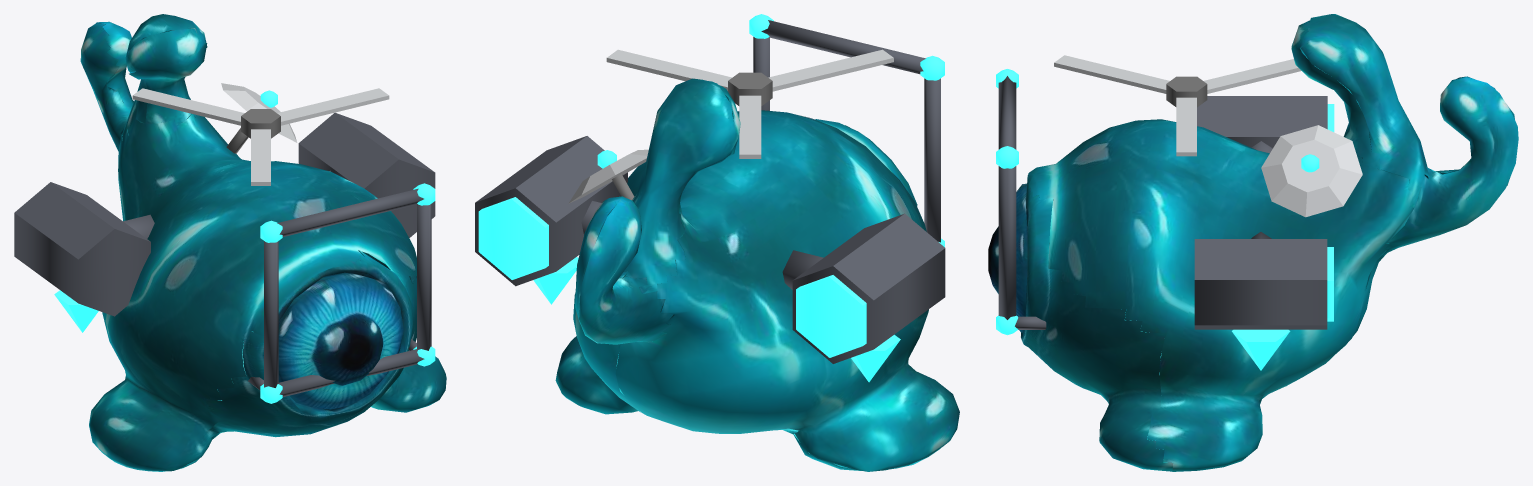
Rendered from Monster_VEX_Skyrig.glb.
The picture shows the model from 3 angles, left to right: view 1: azimuth 30°, elevation 25°; view 2: azimuth 150°, elevation 25°; view 3: azimuth 270°, elevation 25°; orthographic projection. The views are drawn at different scales.
Parts seen in each view (by area): view 1: Monster_VEX_Skyrig, Monster_VEX_Skyrig_Evolution; view 2: Monster_VEX_Skyrig, Monster_VEX_Skyrig_Evolution; view 3: Monster_VEX_Skyrig, Monster_VEX_Skyrig_Evolution.
Part boxes in pixels (x1,y1,x2,y2): Monster_VEX_Skyrig: (80,14,446,471); Monster_VEX_Skyrig_Evolution: (14,83,435,403); Monster_VEX_Skyrig: (555,78,959,471); Monster_VEX_Skyrig_Evolution: (475,14,945,382); Monster_VEX_Skyrig: (988,14,1518,471); Monster_VEX_Skyrig_Evolution: (996,55,1362,370).
Bounding box in the file's own units: 1.85 × 1.75 × 2.3.
Materials: 5 (1 with a texture image).
